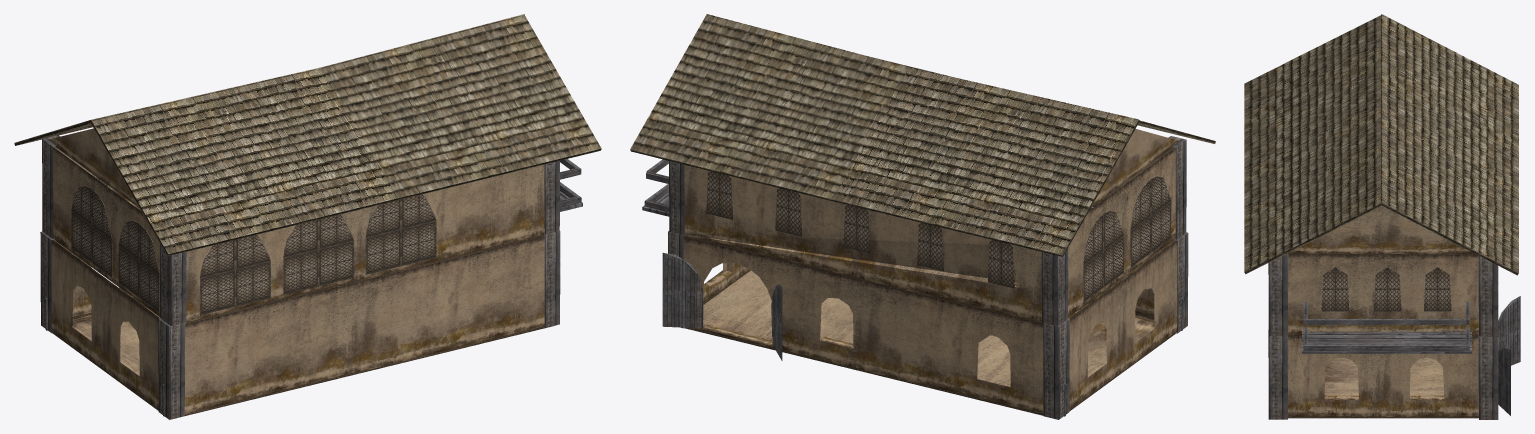
Rendered from tavern_storage_house_LOD2.dae.
The picture shows the model from 3 angles, left to right: view 1: azimuth 30°, elevation 25°; view 2: azimuth 150°, elevation 25°; view 3: azimuth 270°, elevation 25°; orthographic projection. The views are drawn at different scales.
Parts seen in each view (by area): view 1: DefaultLib2_roof_01, Material2, DefaultLib2_dorwindow_set, DefaultLib1_WoodPlanks_ornaments, DefaultLib2_WoodPlanks; view 2: Material2, DefaultLib2_roof_01, DefaultLib1_WoodPlanks_ornaments, DefaultLib2_dorwindow_set, DefaultLib2_WoodPlanks; view 3: DefaultLib2_roof_01, Material2, DefaultLib1_WoodPlanks_ornaments, DefaultLib2_WoodPlanks, DefaultLib2_dorwindow_set.
Boxes of the visible parts, x1,y1,x2,y2 form: DefaultLib2_roof_01: (14,14,601,256); Material2: (48,128,554,415); DefaultLib2_dorwindow_set: (71,173,436,315); DefaultLib1_WoodPlanks_ornaments: (40,135,560,419); DefaultLib2_WoodPlanks: (45,159,582,416); Material2: (683,129,1178,415); DefaultLib2_roof_01: (630,14,1215,256); DefaultLib1_WoodPlanks_ornaments: (662,136,1188,419); DefaultLib2_dorwindow_set: (706,164,1171,302); DefaultLib2_WoodPlanks: (642,159,1183,416); DefaultLib2_roof_01: (1244,14,1518,275); Material2: (1288,206,1478,418); DefaultLib1_WoodPlanks_ornaments: (1268,253,1520,419); DefaultLib2_WoodPlanks: (1302,302,1471,353); DefaultLib2_dorwindow_set: (1321,267,1451,311).
Bounding box in the file's own units: 26.58 × 14.65 × 15.97.
